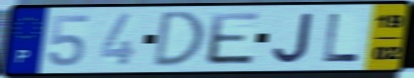4: (98, 11, 137, 69)
5: (46, 13, 91, 68)
D: (150, 9, 208, 70)
E: (205, 10, 263, 67)
J: (271, 11, 316, 65)
L: (321, 12, 361, 64)
